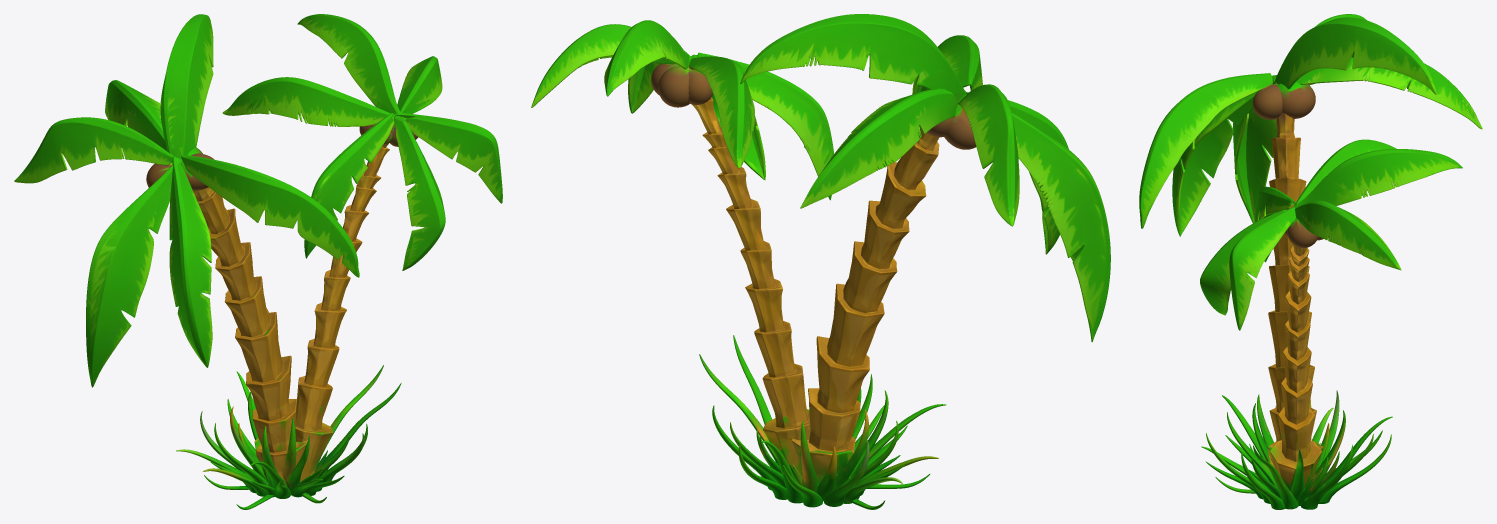
Rendered from Palmtree3D.glb.
The picture shows the model from 3 angles, left to right: view 1: azimuth 30°, elevation 25°; view 2: azimuth 150°, elevation 25°; view 3: azimuth 270°, elevation 25°; orthographic projection. The views are drawn at different scales.
Parts seen in each view (by area): view 1: node_0; view 2: node_0; view 3: node_0.
Part boxes in pixels (x1,y1,x2,y2): node_0: (14, 14, 502, 509); node_0: (531, 14, 1110, 509); node_0: (1139, 14, 1482, 509).
Size of the model in its own units: 1.03 by 1.04 by 0.7396.
1 material, 1 textured.
